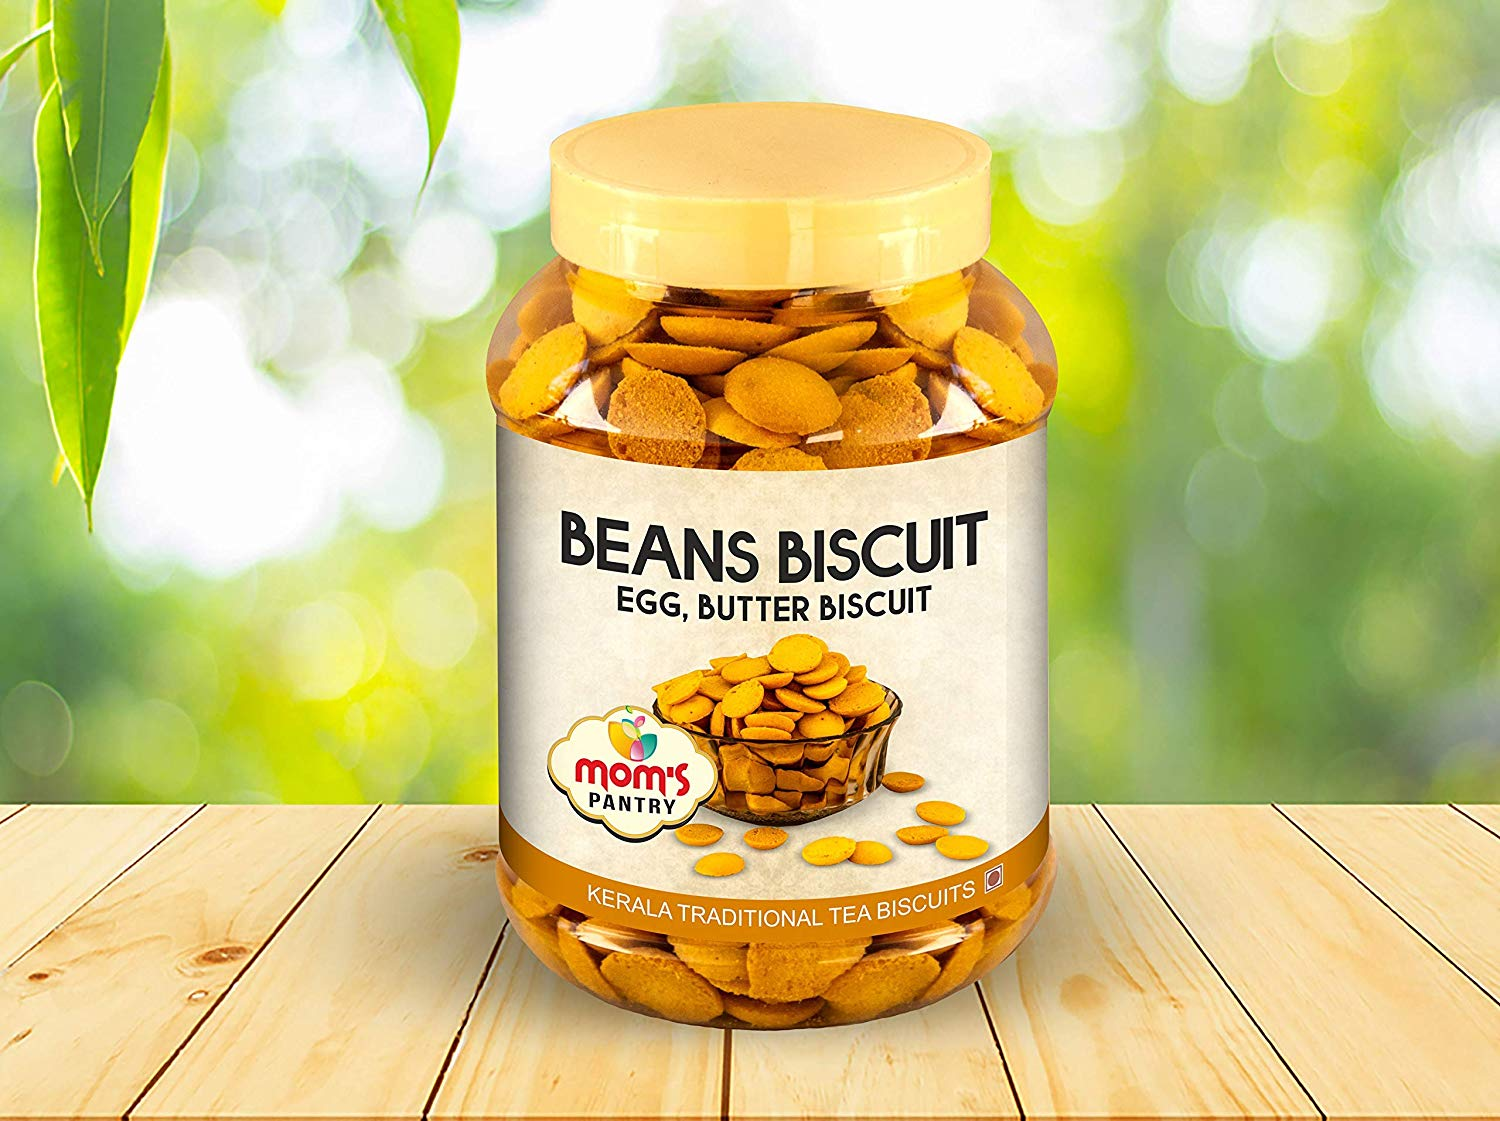nonveg_red: (984, 864, 1004, 893)
